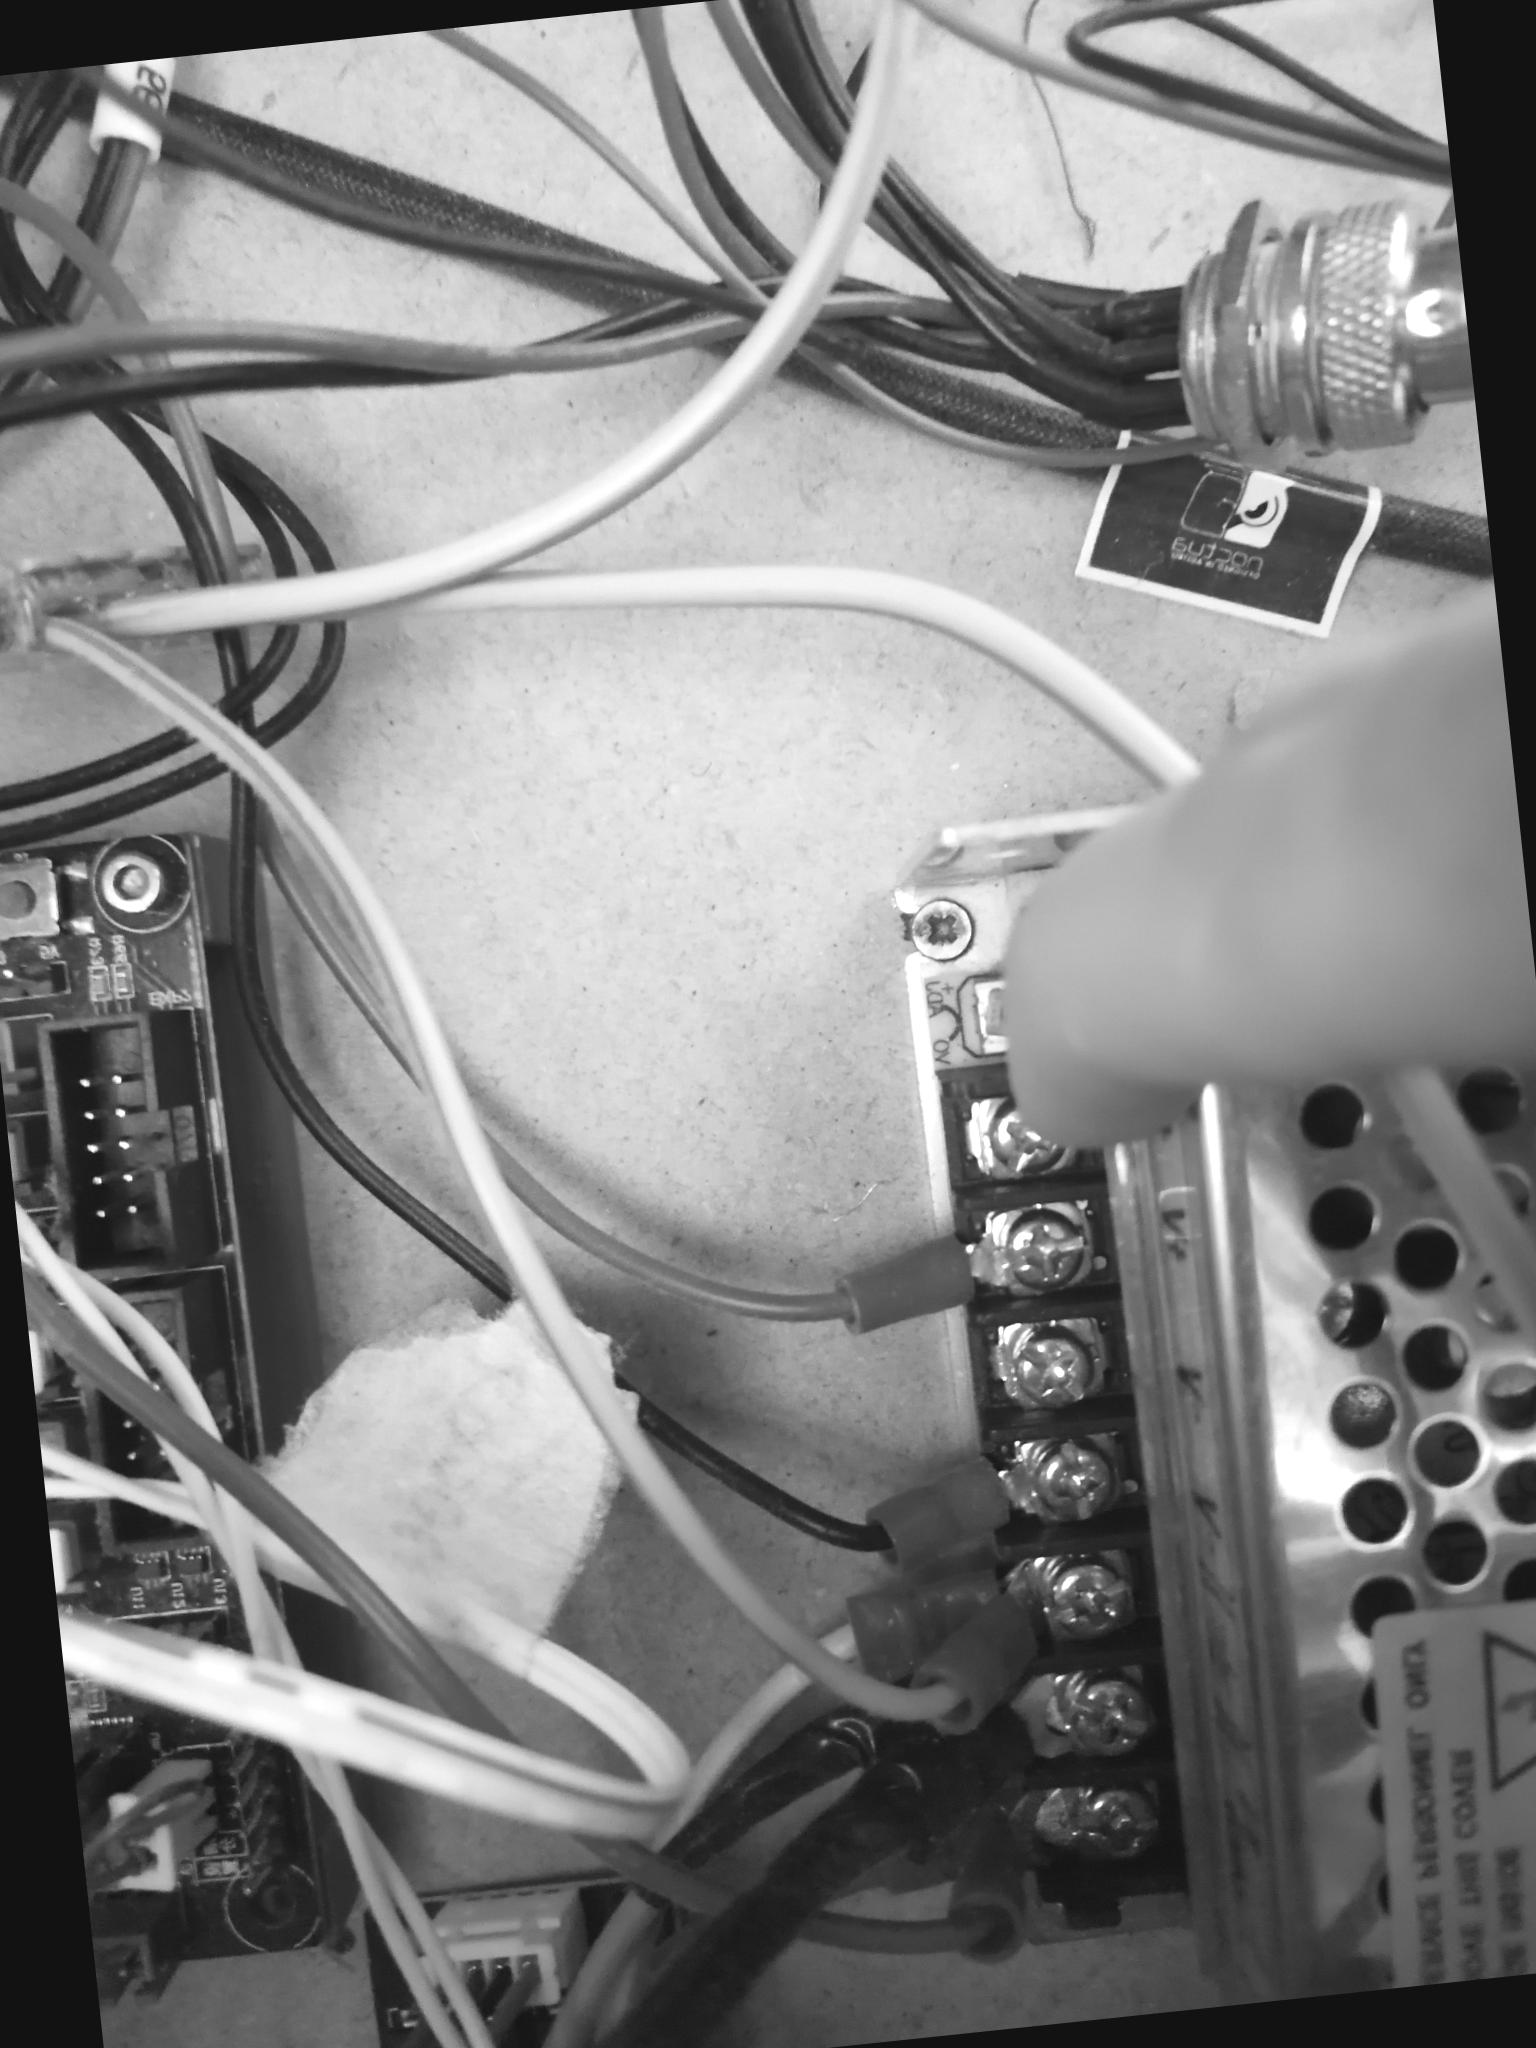allen: (84, 836, 180, 932)
philips-PZ: (992, 1191, 1096, 1296), (1026, 1430, 1126, 1533), (1054, 1666, 1158, 1762), (1040, 1550, 1138, 1650), (1009, 1320, 1100, 1412)
